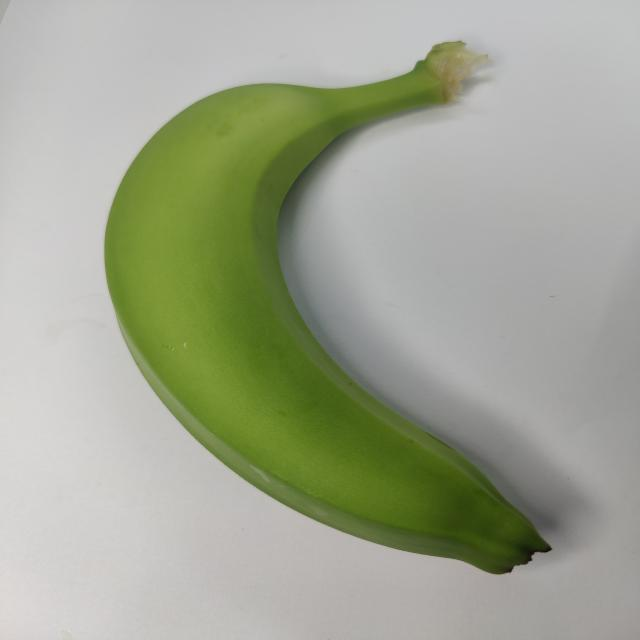raw: (90, 39, 588, 585)
